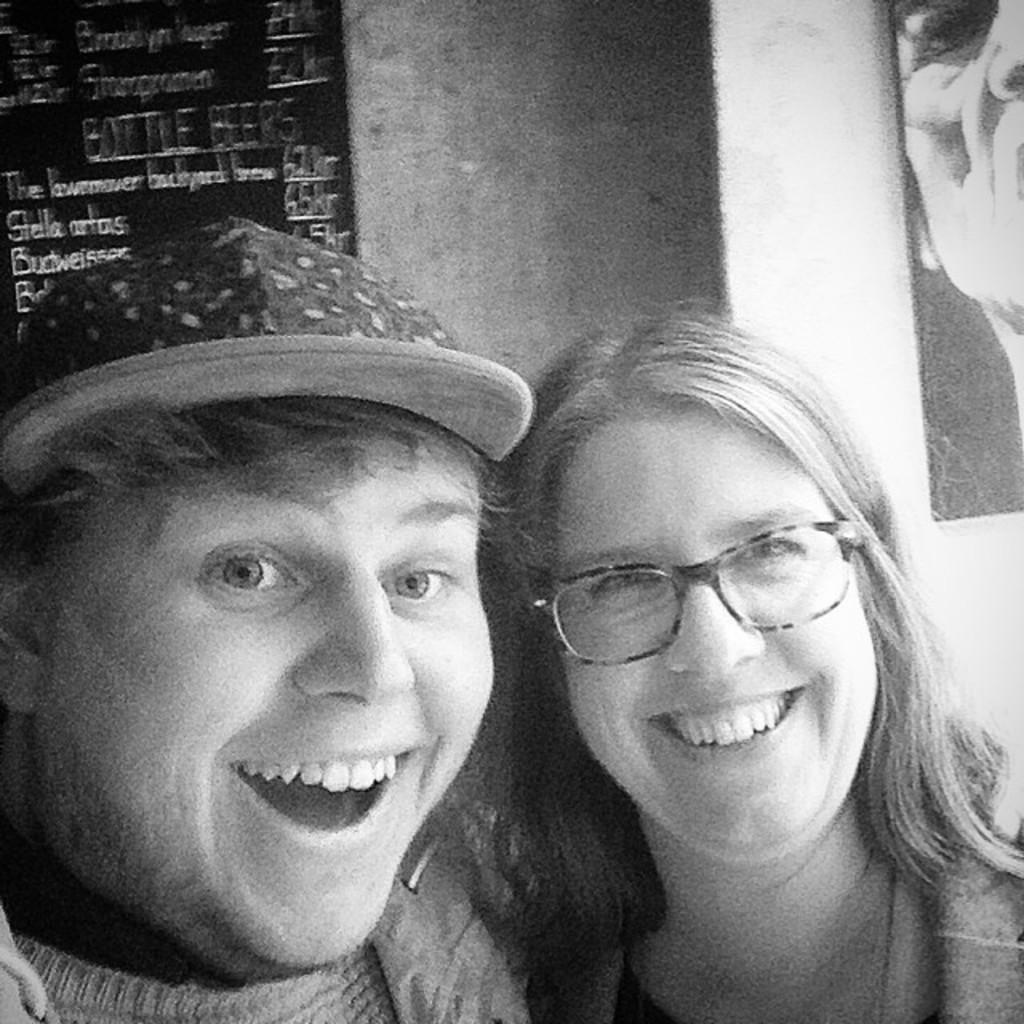Hat: (14, 264, 548, 538)
